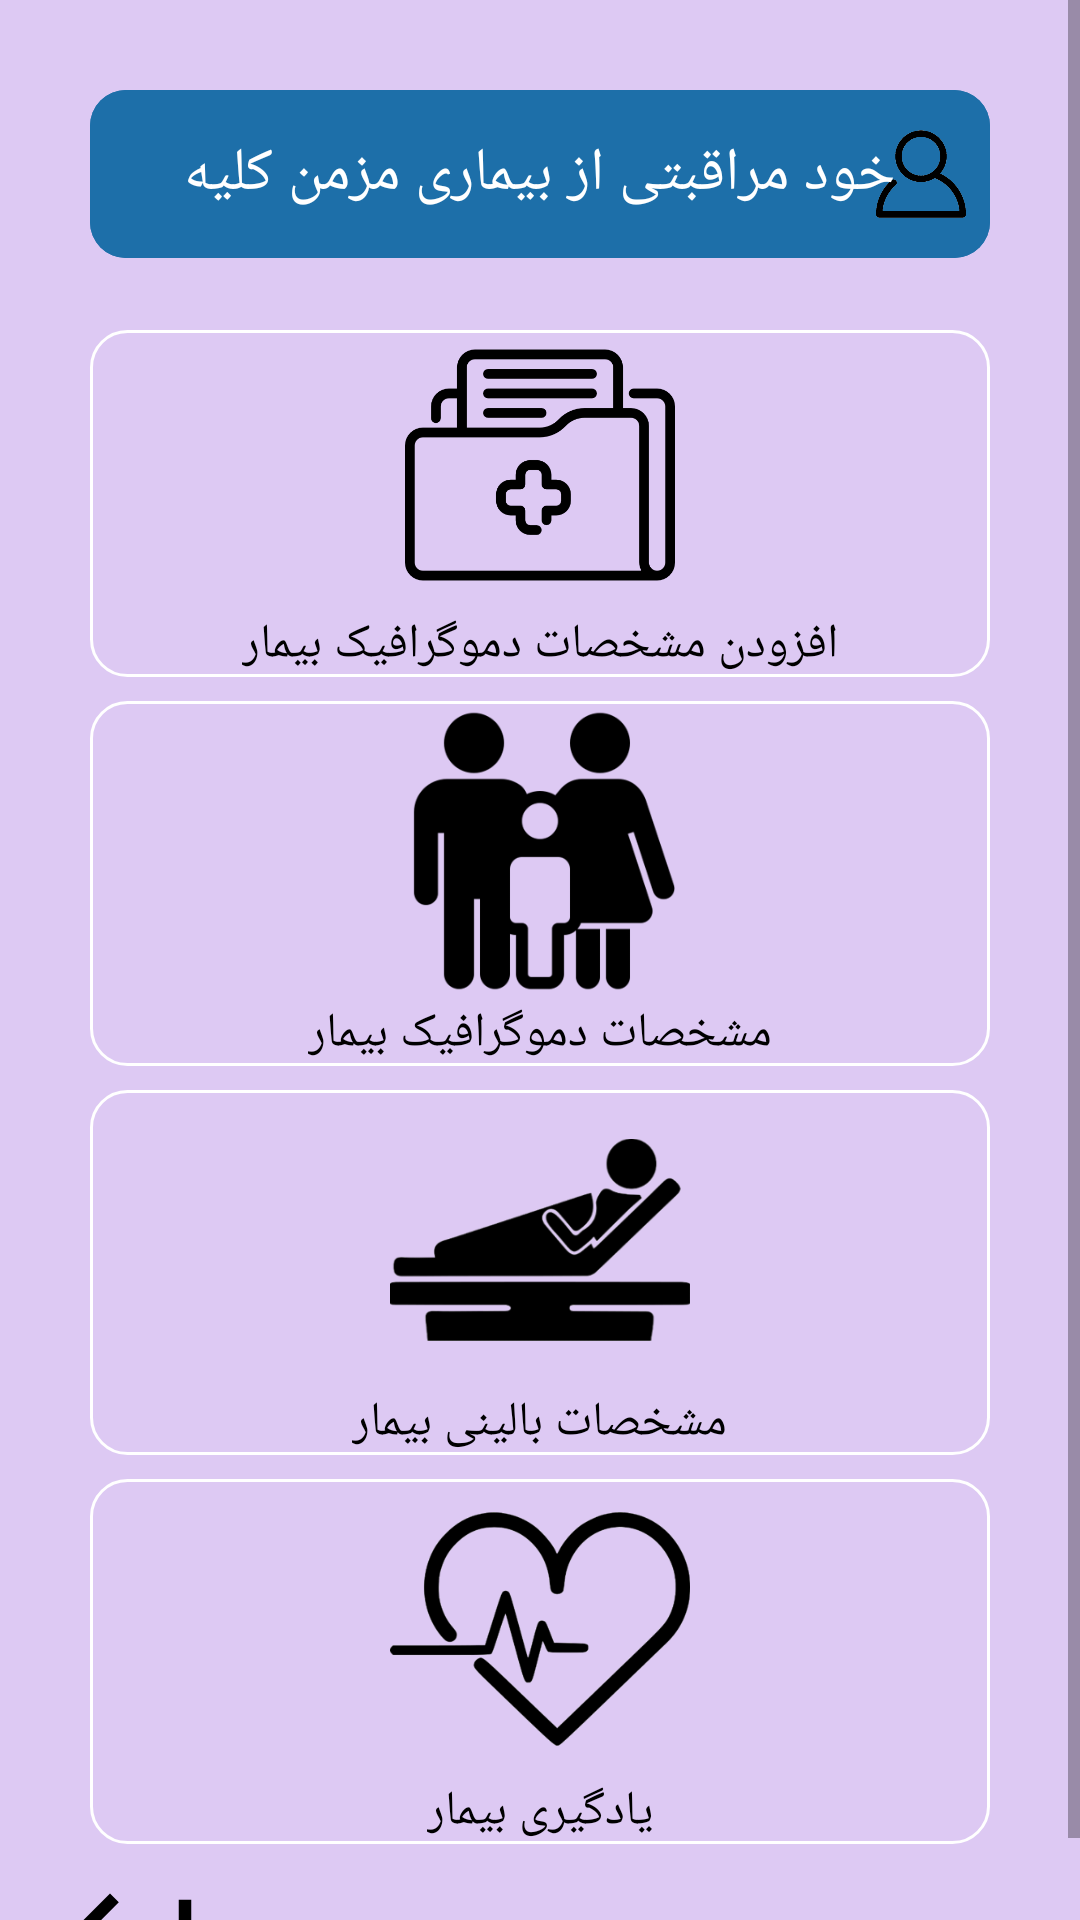

Named icons in this screenshot (1080×1920) and their bounding boxes, (x1, y1, x2, y2):
login: (876, 130, 966, 218)
